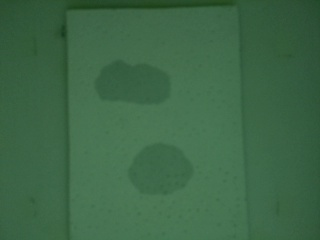Water_detected: (103, 69, 161, 102), (141, 150, 186, 187)
